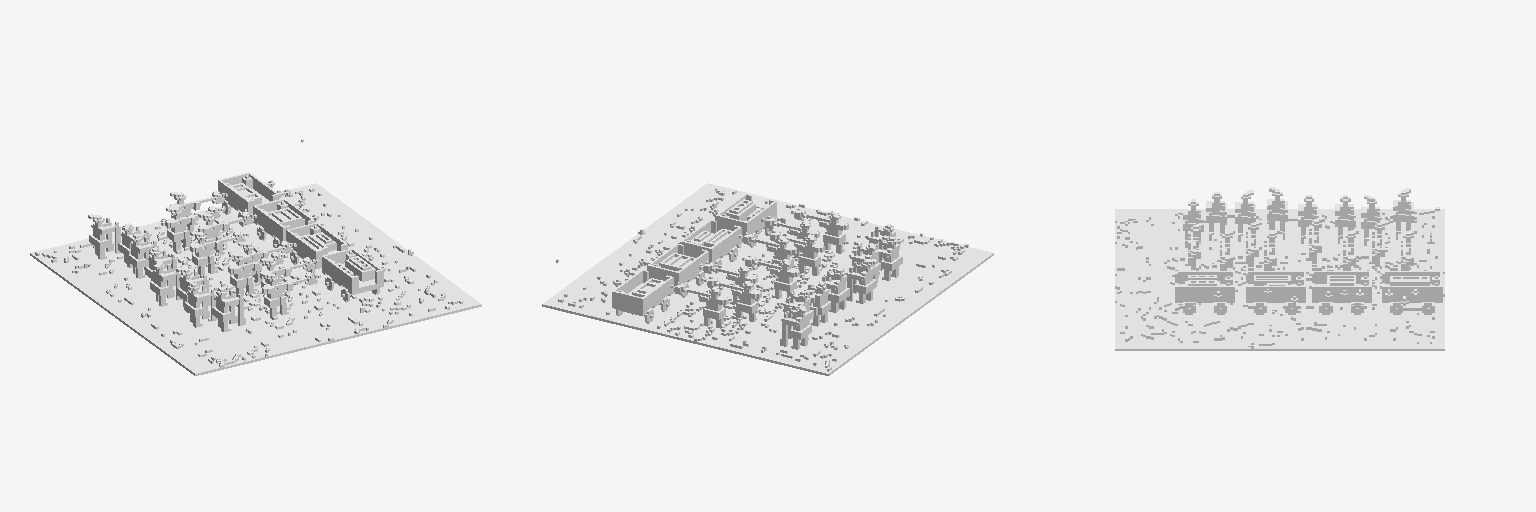
The model's file is tartar_engage_cossacks-7.obj.
3 views of the same model, side by side, from view 1: azimuth 30°, elevation 25°; view 2: azimuth 150°, elevation 25°; view 3: azimuth 270°, elevation 25° (orthographic).
Parts seen in each view (by area): view 1: object 1; view 2: object 1; view 3: object 1.
Boxes of the visible parts, x1=… form: object 1: x1=30, y1=139, x2=481, y2=375; object 1: x1=542, y1=183, x2=993, y2=375; object 1: x1=1115, y1=187, x2=1444, y2=350.
Size of the model in its own units: 12.6 by 2.1 by 12.6.